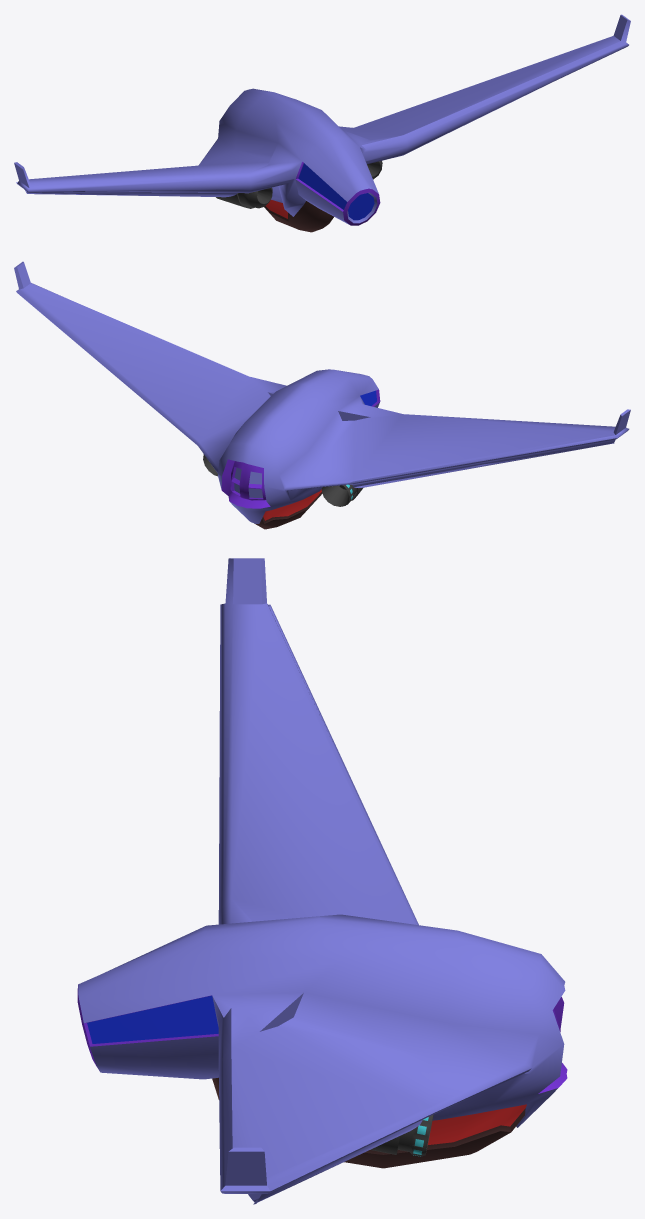
Rendered from Enemy Bomber.FBX.
3 views of the same model, one above another, from view 1: azimuth 30°, elevation 25°; view 2: azimuth 150°, elevation 25°; view 3: azimuth 270°, elevation 25° (orthographic). The views are drawn at different scales.
Visible parts, largest first — view 1: Cylinder001, Box004, Cylinder002; view 2: Cylinder001, Box004, Cylinder002; view 3: Cylinder001, Box004.
Part boxes in pixels (x1=…): Cylinder001: x1=14, y1=14, x2=630, y2=225; Box004: x1=264, y1=199, x2=333, y2=232; Cylinder002: x1=238, y1=187, x2=272, y2=208; Cylinder001: x1=14, y1=261, x2=630, y2=523; Box004: x1=254, y1=489, x2=322, y2=529; Cylinder002: x1=321, y1=484, x2=357, y2=506; Cylinder001: x1=77, y1=558, x2=567, y2=1204; Box004: x1=212, y1=1077, x2=526, y2=1168.
Bounding box in the file's own units: 110 × 27.29 × 38.49.
